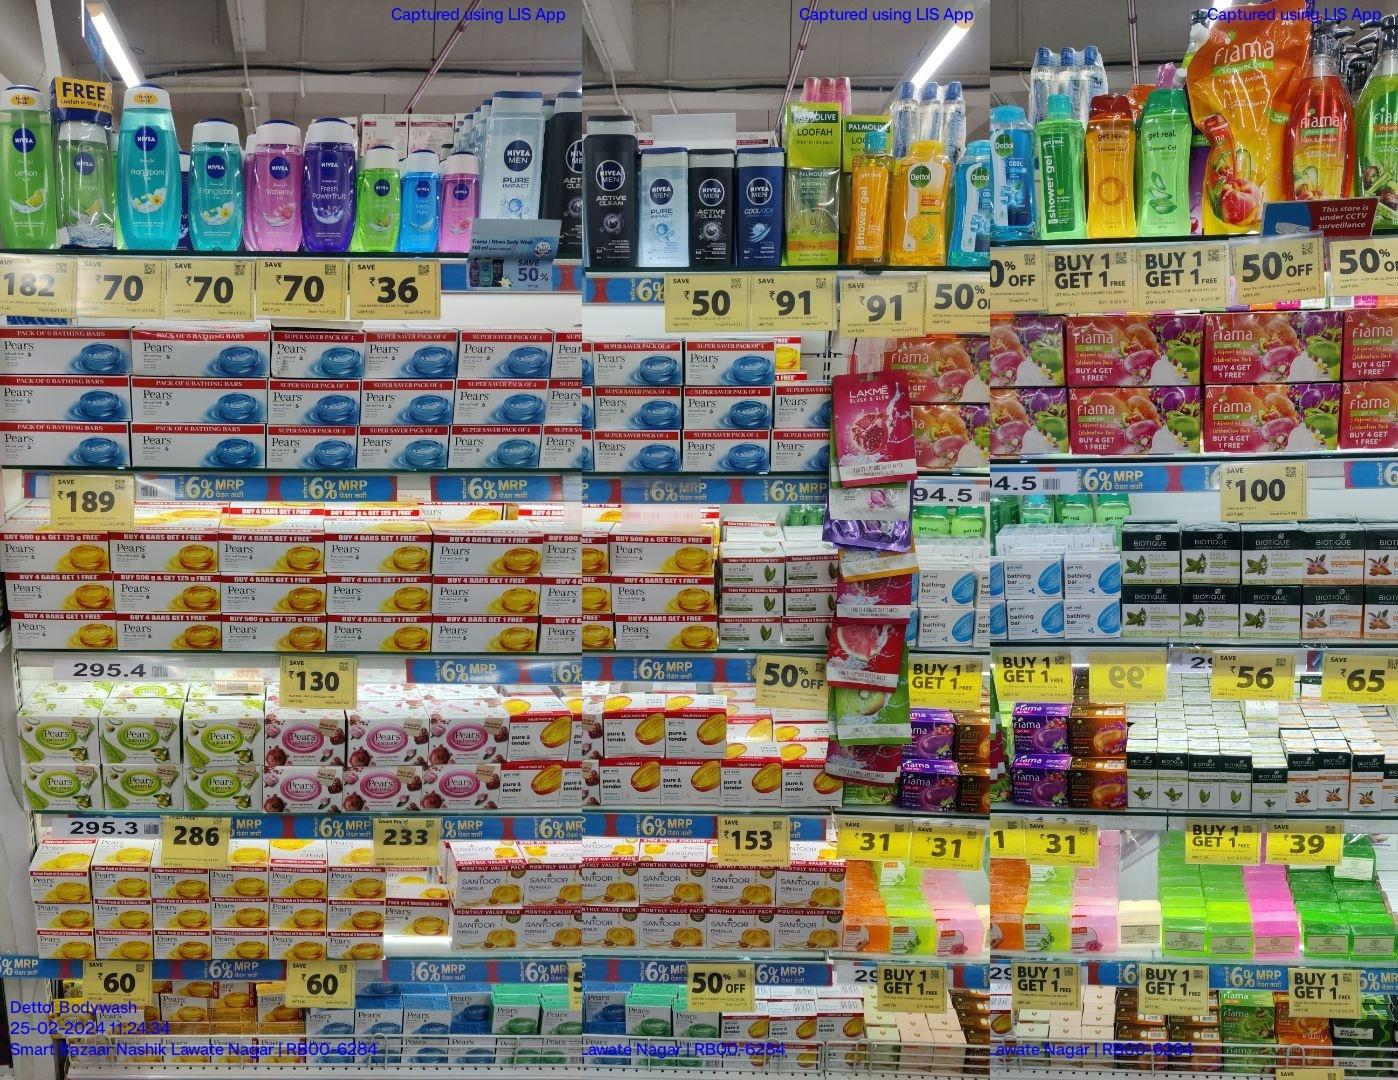Dettol_Bodywash_Cool: (991, 106, 1036, 241)
Dettol_Bodywash_Refresh: (896, 143, 948, 267)
Get_Real_Shower_Gel_Moisturising_Glycerin_300ML: (1087, 94, 1135, 239)
Nivea_Shower_Gel_Frangipani_and_Oil_250ML: (117, 83, 183, 248), (192, 118, 242, 251)
Nivea_Shower_Gel_Fresh_Powerfruit_250ML: (306, 115, 354, 251)
Nivea_Shower_Gel_Lemon_and_Oil_250ML: (5, 84, 51, 252), (61, 118, 113, 254)
Nivea_Shower_Gel_Waterlily_and_Oil_250ML: (249, 118, 301, 254)
